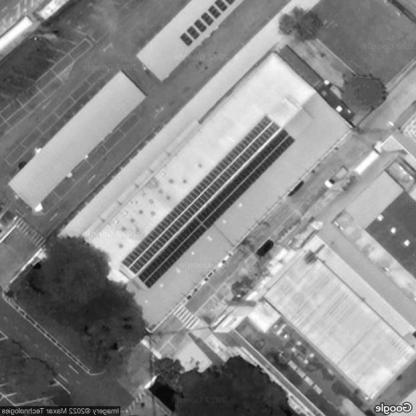solar-pv-panel: (121, 117, 295, 290)
